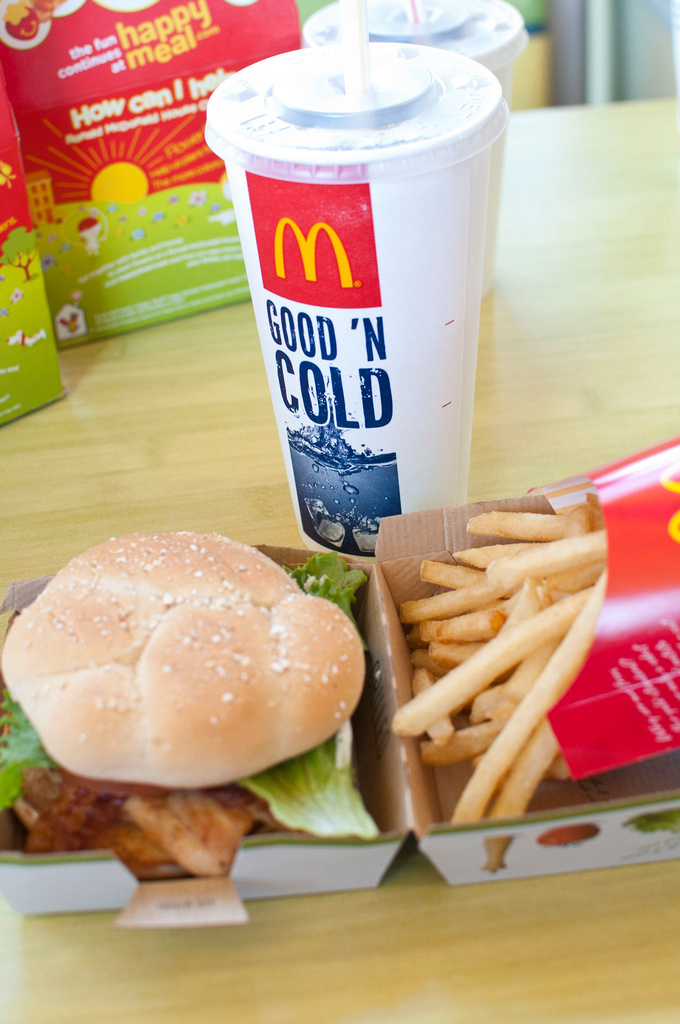French fries: (384, 499, 615, 869)
